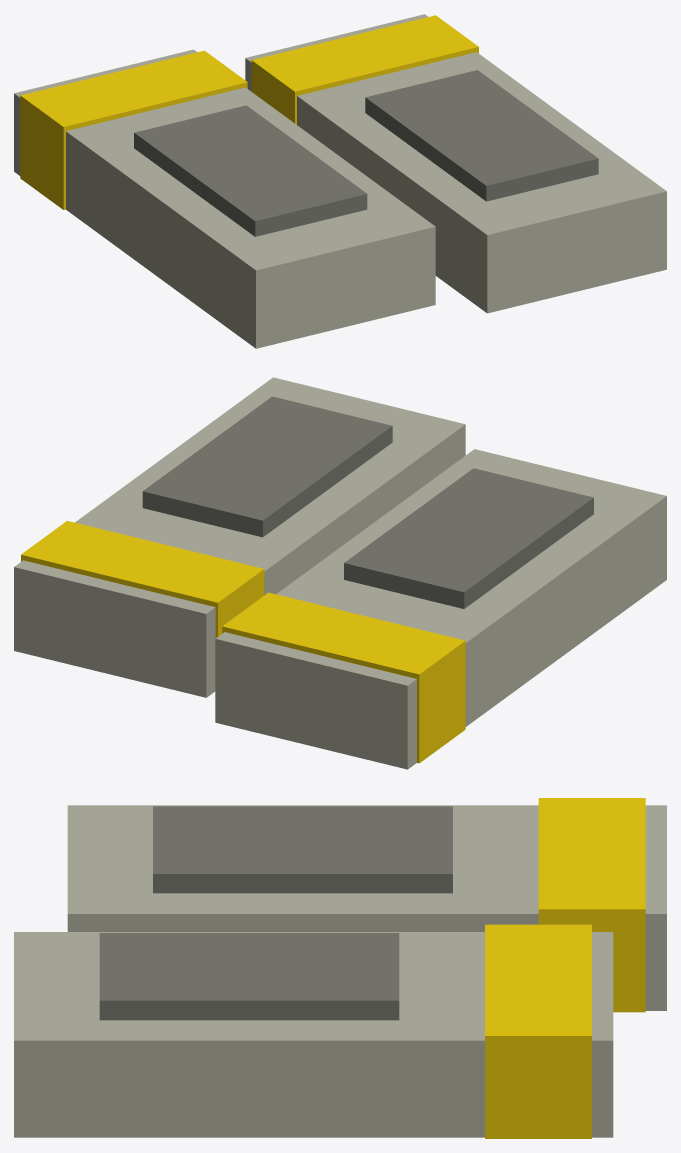
The model's file is ce_ammo_chmag_reg_b.obj.
3 renders of one model, top to bottom at view 1: azimuth 30°, elevation 25°; view 2: azimuth 150°, elevation 25°; view 3: azimuth 270°, elevation 25°, orthographic. The views are drawn at different scales.
Visible parts, largest first — view 1: ce_ammo_chmag_reg_b_0, ce_ammo_chmag_reg_b_3, ce_ammo_chmag_reg_b_2, ce_ammo_chmag_reg_b_5, ce_ammo_chmag_reg_b_1, ce_ammo_chmag_reg_b_4; view 2: ce_ammo_chmag_reg_b_0, ce_ammo_chmag_reg_b_3, ce_ammo_chmag_reg_b_5, ce_ammo_chmag_reg_b_2, ce_ammo_chmag_reg_b_1, ce_ammo_chmag_reg_b_4; view 3: ce_ammo_chmag_reg_b_3, ce_ammo_chmag_reg_b_0, ce_ammo_chmag_reg_b_5, ce_ammo_chmag_reg_b_2, ce_ammo_chmag_reg_b_4, ce_ammo_chmag_reg_b_1.
Part boxes in pixels (left/top/right/bottom): ce_ammo_chmag_reg_b_0: left=14, top=49, right=435, bottom=348; ce_ammo_chmag_reg_b_3: left=245, top=14, right=666, bottom=313; ce_ammo_chmag_reg_b_2: left=134, top=105, right=367, bottom=236; ce_ammo_chmag_reg_b_5: left=365, top=70, right=598, bottom=201; ce_ammo_chmag_reg_b_1: left=20, top=50, right=247, bottom=209; ce_ammo_chmag_reg_b_4: left=251, top=15, right=478, bottom=124; ce_ammo_chmag_reg_b_0: left=215, top=449, right=666, bottom=769; ce_ammo_chmag_reg_b_3: left=14, top=377, right=465, bottom=697; ce_ammo_chmag_reg_b_5: left=142, top=396, right=392, bottom=537; ce_ammo_chmag_reg_b_2: left=344, top=468, right=593, bottom=608; ce_ammo_chmag_reg_b_1: left=222, top=592, right=465, bottom=763; ce_ammo_chmag_reg_b_4: left=21, top=521, right=264, bottom=637; ce_ammo_chmag_reg_b_3: left=14, top=932, right=613, bottom=1137; ce_ammo_chmag_reg_b_0: left=67, top=805, right=666, bottom=1010; ce_ammo_chmag_reg_b_5: left=99, top=933, right=399, bottom=1020; ce_ammo_chmag_reg_b_2: left=153, top=806, right=452, bottom=893; ce_ammo_chmag_reg_b_4: left=485, top=924, right=591, bottom=1138; ce_ammo_chmag_reg_b_1: left=538, top=798, right=645, bottom=1012.
Bounding box in the file's own units: 0.526 × 0.12 × 0.61.
